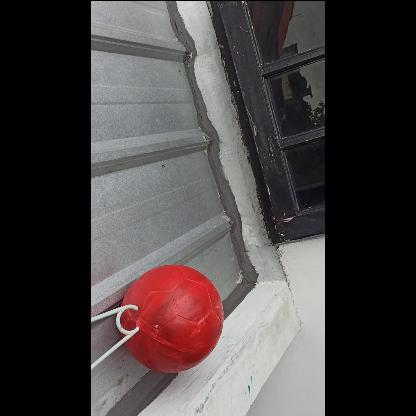red_ball: (118, 265, 224, 371)
